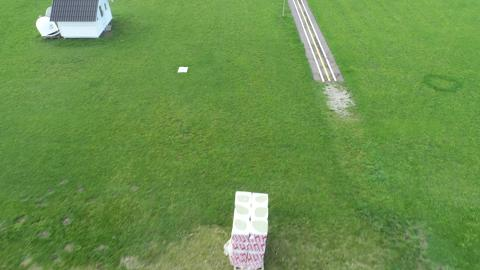RockwoolPallet: (228, 191, 269, 268)
